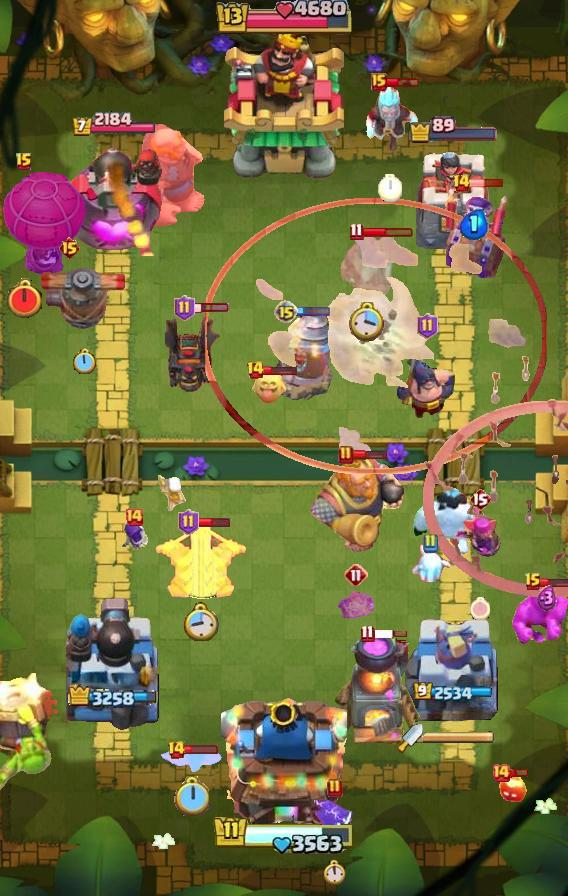archer-evolution: (165, 311, 225, 395)
balloon: (132, 120, 206, 228)
bar: (405, 611, 501, 731)
barbarian: (158, 747, 224, 777)
bat: (408, 544, 452, 582)
bat-evolution: (247, 367, 289, 405)
bomber: (499, 773, 527, 805)
cannon-cart: (0, 167, 90, 277)
clock: (212, 815, 356, 857), (213, 0, 355, 38)
dark-prince: (39, 247, 129, 335)
electro-spirit: (460, 209, 488, 239), (537, 585, 557, 612)
elixir: (5, 278, 44, 320), (349, 301, 385, 343), (183, 602, 219, 641), (174, 776, 209, 816), (378, 174, 402, 202), (72, 348, 96, 376), (324, 859, 347, 885), (470, 596, 490, 619)
emote: (362, 226, 415, 238), (193, 302, 230, 314), (384, 76, 420, 88), (263, 364, 298, 376), (197, 516, 232, 528), (295, 306, 331, 317), (183, 745, 219, 756), (352, 448, 387, 459), (372, 629, 408, 639), (469, 178, 504, 188), (540, 576, 568, 588), (509, 766, 529, 777)
evolution-symbol: (454, 503, 506, 575)
giant-skeleton: (304, 452, 412, 556)
goblin: (118, 519, 150, 557)
heal-spirit: (158, 475, 190, 511)
hunter: (333, 638, 421, 748)
ice-spirit-evolution: (336, 589, 376, 625)
king-tower: (224, 29, 344, 181), (221, 690, 347, 826)
king-tower-bar: (423, 731, 495, 745)
lava-pup: (152, 520, 250, 602)
magic-archer: (274, 309, 334, 401)
monk: (396, 343, 458, 421)
mortar: (360, 82, 420, 152)
mortar-evolution: (338, 233, 396, 301)
queen-tower: (410, 144, 496, 255)
rage: (412, 487, 488, 557)
royal-ghost: (205, 198, 547, 474)
selected: (409, 116, 500, 144), (68, 685, 160, 712), (71, 111, 157, 138), (413, 681, 493, 702)
skeleton-barrel: (422, 354, 568, 598)
skeleton-king-bar: (441, 184, 507, 278)
spear-goblin: (314, 800, 356, 846)
text: (274, 300, 298, 324), (344, 563, 368, 587), (58, 236, 81, 260), (174, 295, 195, 321), (417, 313, 438, 339), (178, 509, 199, 535), (469, 487, 491, 511), (124, 507, 144, 527), (491, 763, 511, 783), (452, 173, 471, 193), (246, 360, 265, 380), (166, 740, 185, 760), (15, 152, 33, 172), (524, 572, 542, 592), (338, 445, 354, 465), (422, 533, 438, 553), (327, 778, 343, 798), (371, 73, 387, 91), (349, 223, 364, 242), (360, 624, 375, 643)
tornado: (512, 586, 568, 646)
tower-bar: (66, 595, 162, 731), (63, 138, 164, 256)
x-bow: (0, 670, 60, 796)
